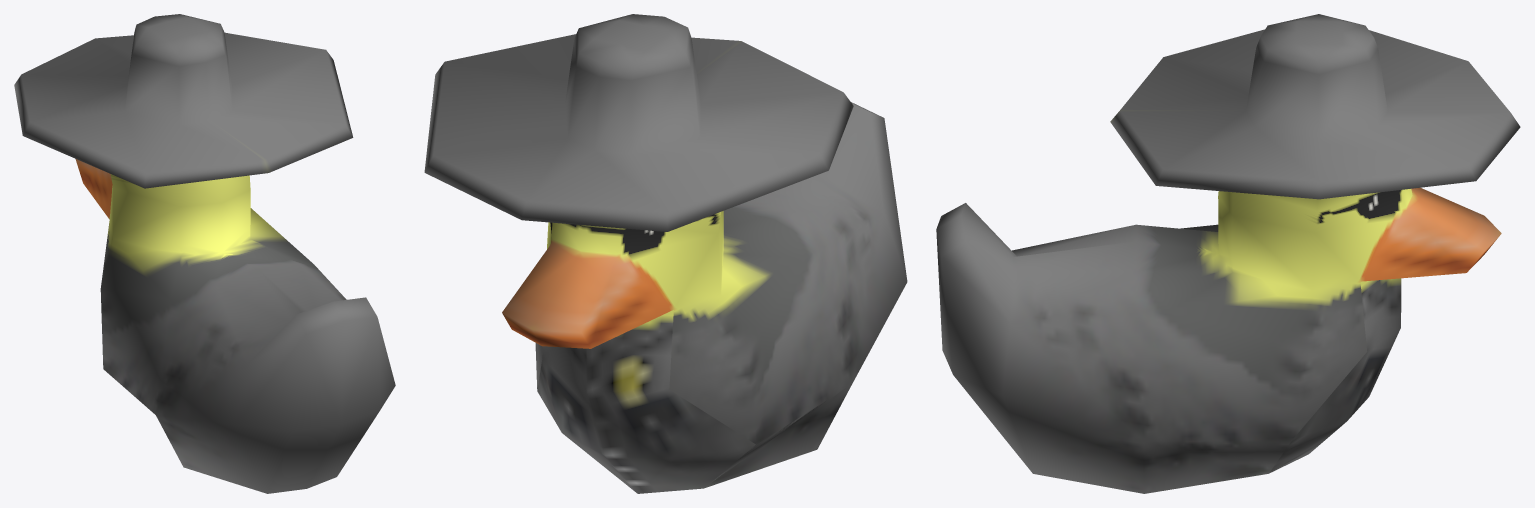
The model's file is duck_sierra.FBX.
3 renders of one model, left to right at view 1: azimuth 30°, elevation 25°; view 2: azimuth 150°, elevation 25°; view 3: azimuth 270°, elevation 25°, orthographic. The views are drawn at different scales.
Parts seen in each view (by area): view 1: sierra; view 2: sierra; view 3: sierra.
Part boxes in pixels (x1=…): sierra: x1=14, y1=14, x2=395, y2=493; sierra: x1=424, y1=14, x2=907, y2=493; sierra: x1=936, y1=14, x2=1520, y2=493.
Bounding box in the file's own units: 0.1491 × 0.1678 × 0.2102.
1 material, 1 textured.
